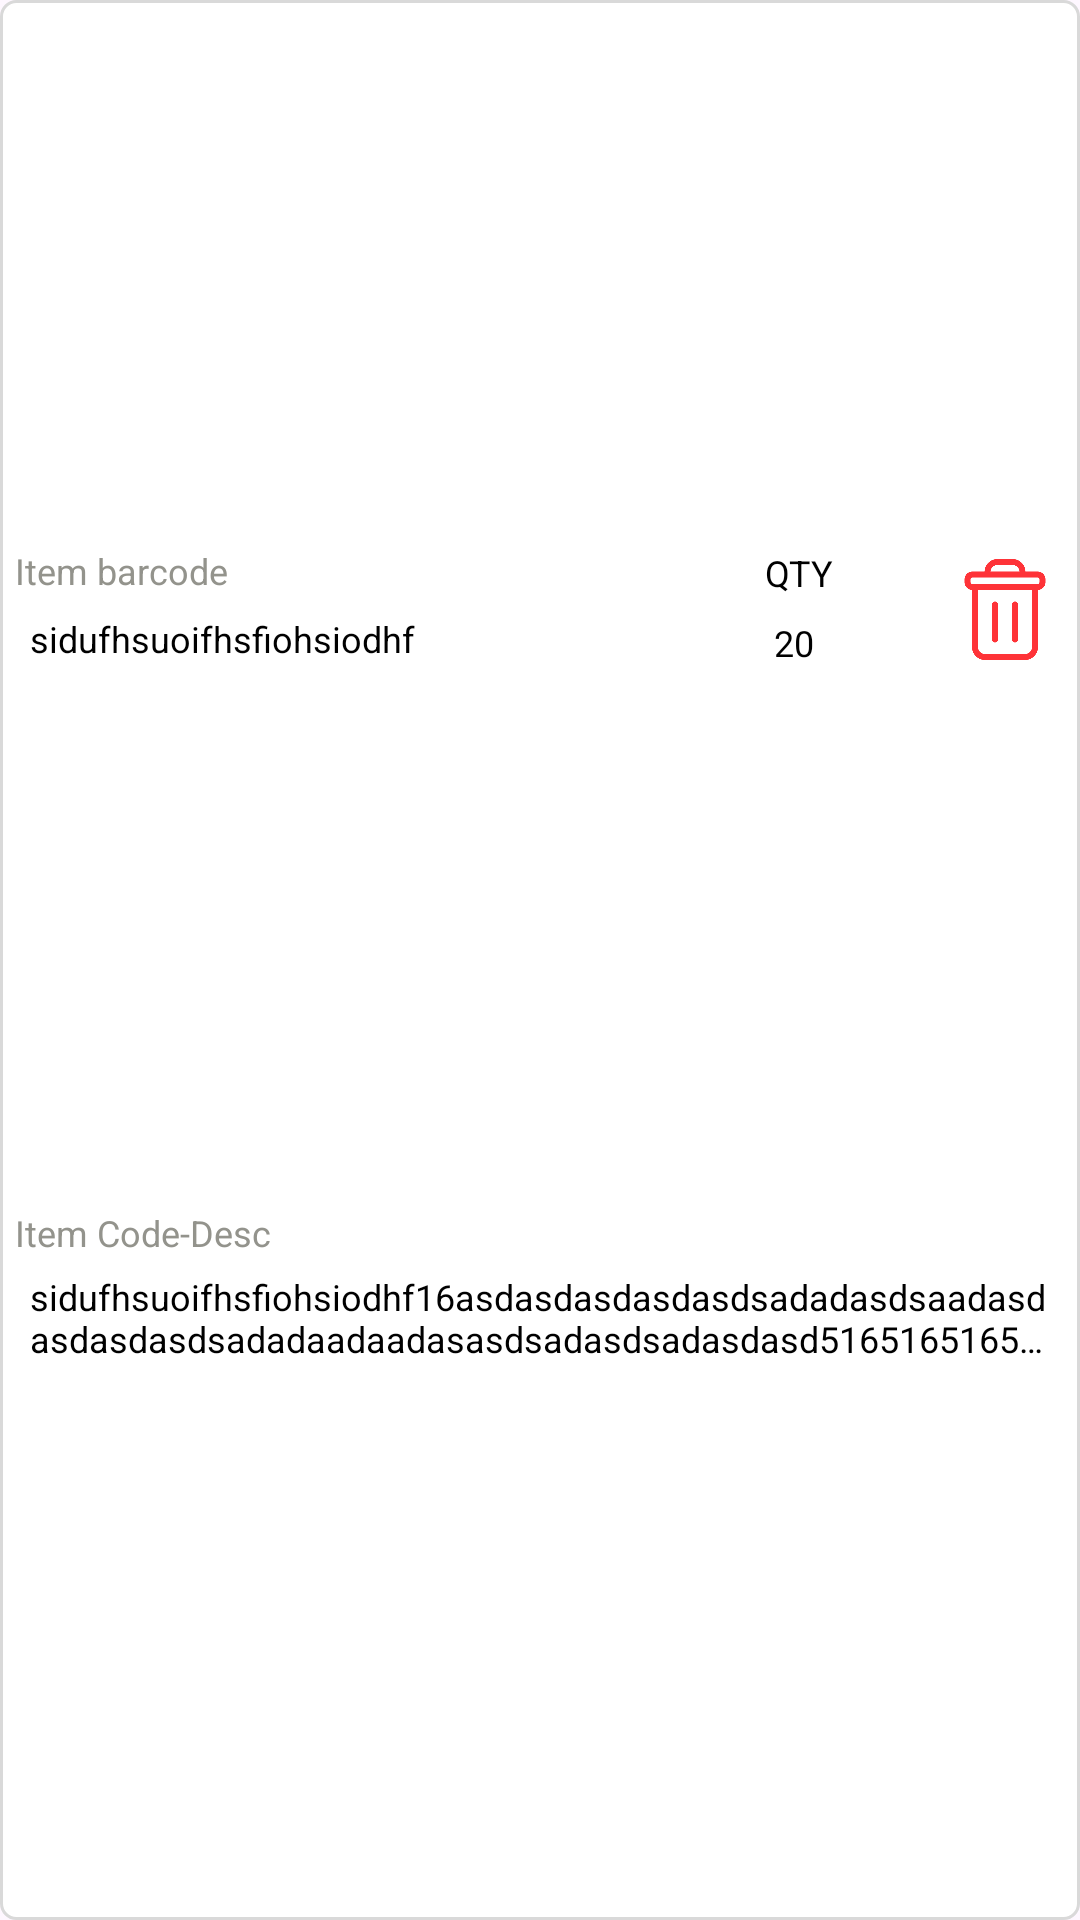

Where icons sit on this 1080x1920 app screen, as (x1,y1,x2,y2):
delete: (964,559,1046,660)
